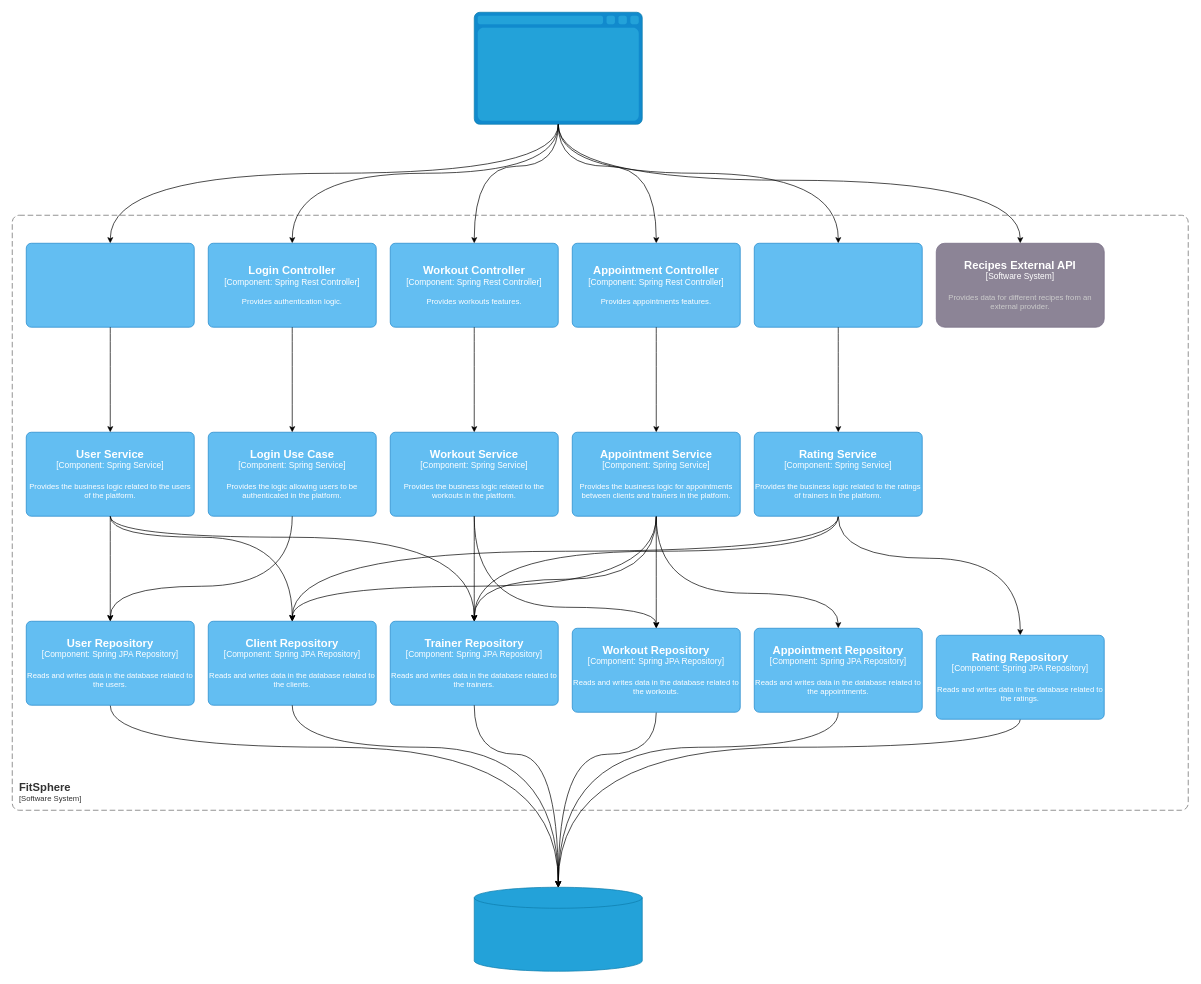
Some shapes in this 1201 by 984 pixel diagram are drawn without their labels. Each missing label, with the centre of its shape:
"Database [Container: MySQL] Stores the systems data." goes at [558,929].
"Front-end Framework [Container: React] Displays the pages in the website." goes at [558,68].
"Rating Controller [Component: Spring Rest Controller] Provides ratings features." goes at [838,285].
"User Controller [Component: Spring Rest Controller] Provides users features." goes at [110,285].
